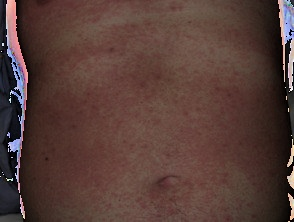SJS-TEN: (23, 7, 285, 222)
